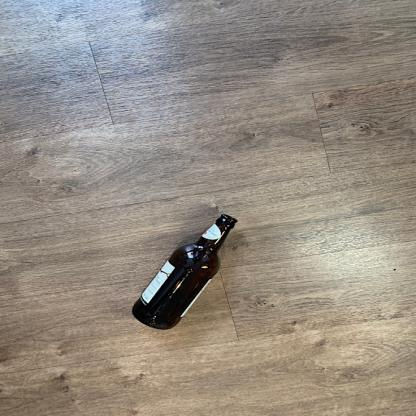trash: (132, 212, 240, 331)
